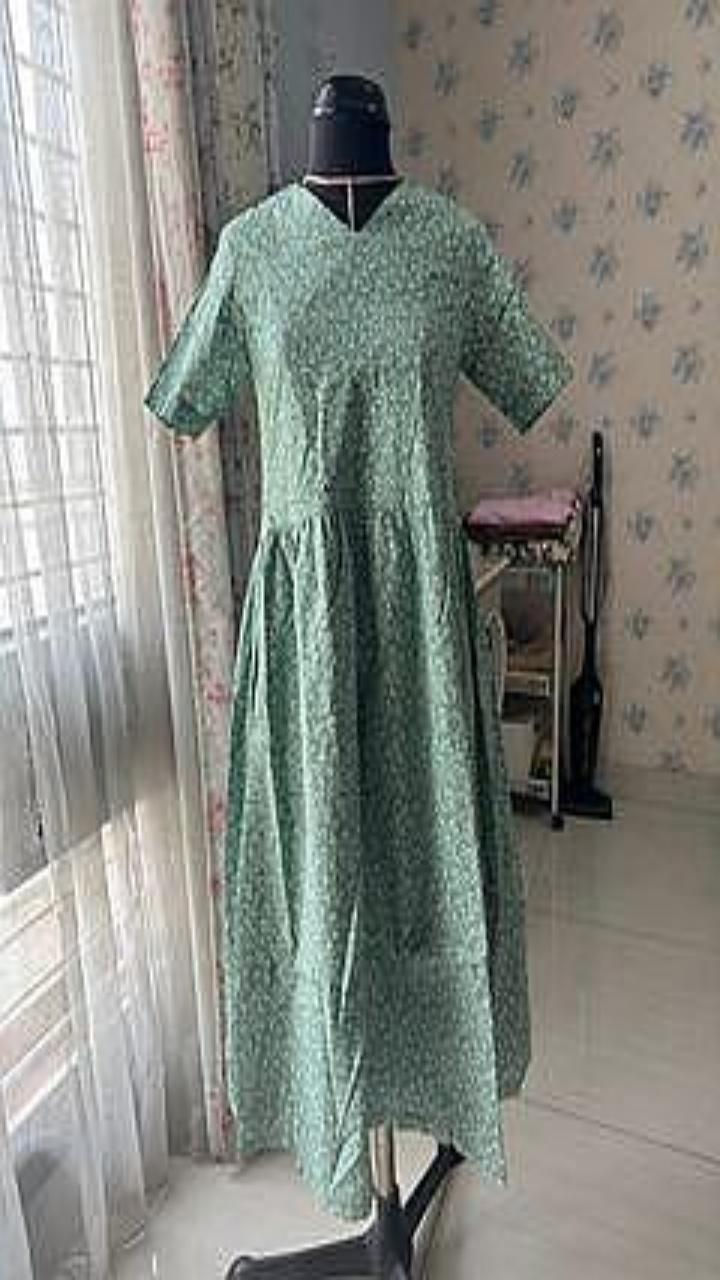Dresses: (145, 178, 570, 1216)
